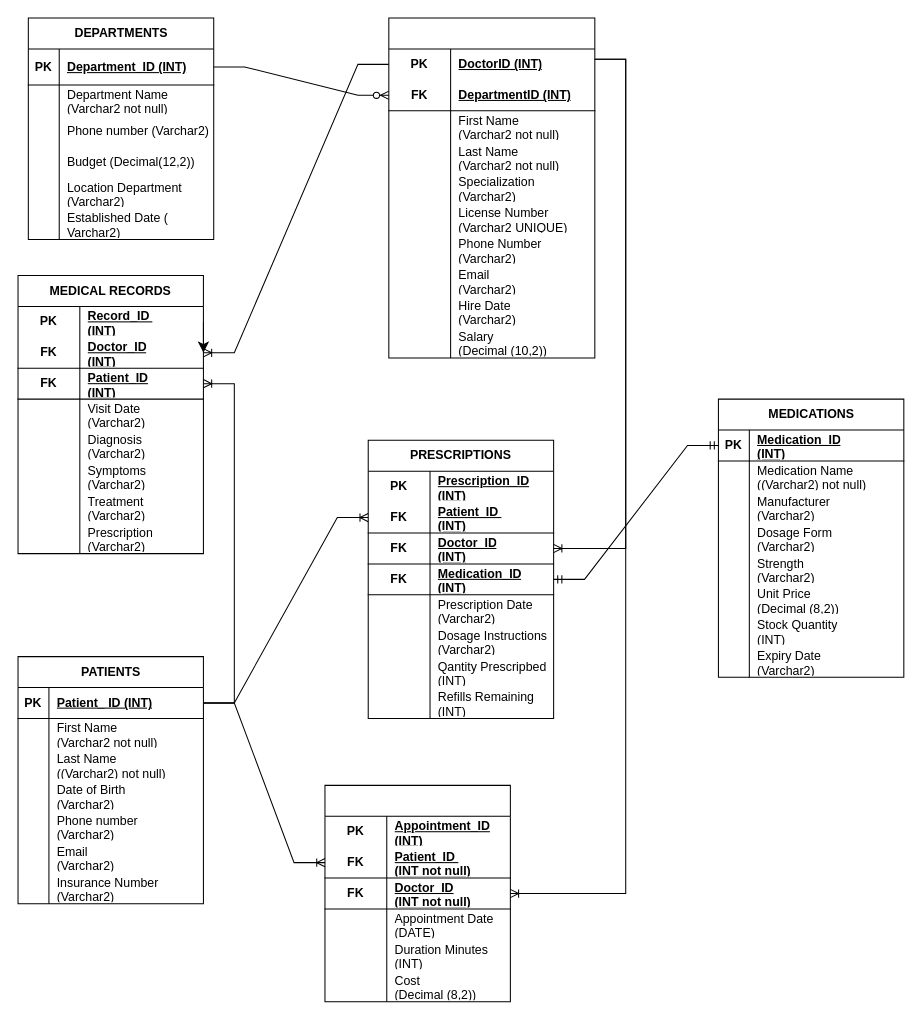
The diagram is 922 pixels wide and 1020 high, and some of its shapes have lost their labels. Here are the shapes that lost their labels. From the top down, the box of each, then its label:
(388, 17, 595, 358): DOCTORS
(324, 784, 510, 1002): APPOINTMENTS
